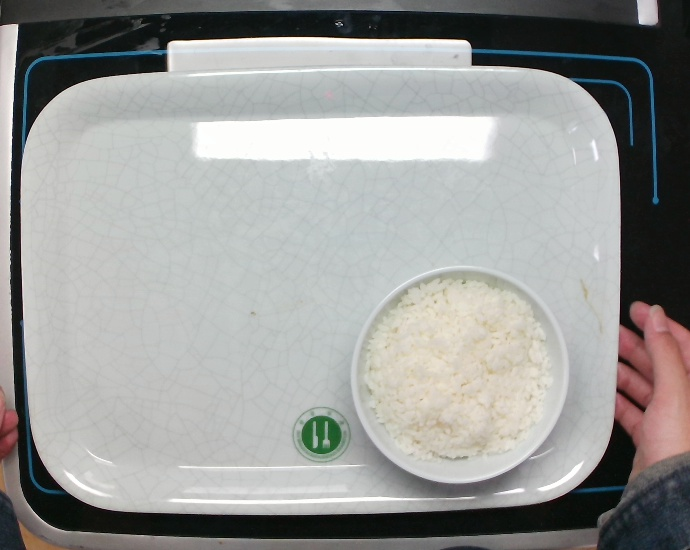JYsf-Fan_Wan: (348, 263, 571, 486)
